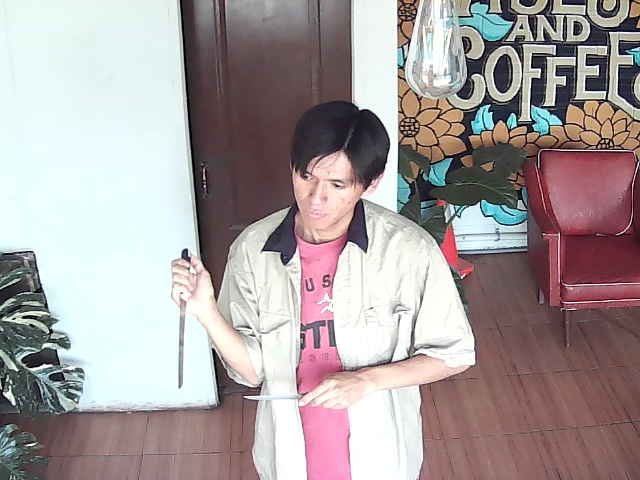cuchillo: (168, 250, 203, 395)
